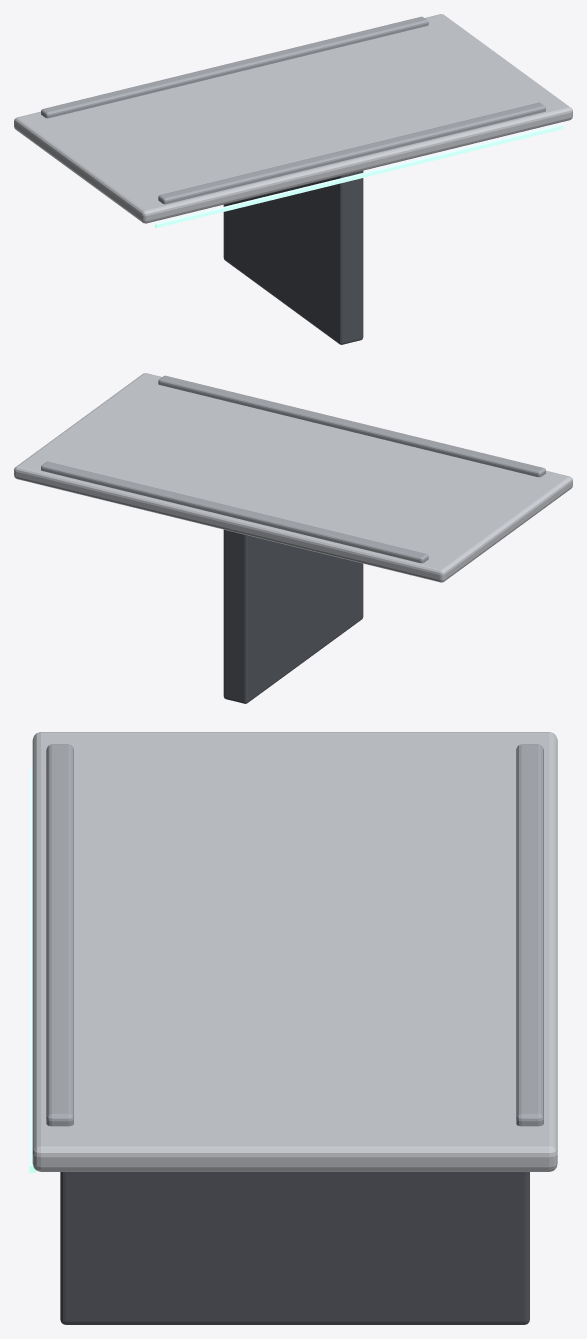
Rendered from dining_table_mess_hall.glb.
3 renders of one model, top to bottom at view 1: azimuth 30°, elevation 25°; view 2: azimuth 150°, elevation 25°; view 3: azimuth 270°, elevation 25°, orthographic. The views are drawn at different scales.
Visible parts, largest first — view 1: GD_dining_table_mess_hall__m0, GD_dining_table_mess_hall__m1, GD_dining_table_mess_hall__m2, GD_dining_table_mess_hall__m3; view 2: GD_dining_table_mess_hall__m0, GD_dining_table_mess_hall__m1, GD_dining_table_mess_hall__m2; view 3: GD_dining_table_mess_hall__m0, GD_dining_table_mess_hall__m1, GD_dining_table_mess_hall__m2, GD_dining_table_mess_hall__m3.
Boxes of the visible parts, x1,y1,x2,y2 form: GD_dining_table_mess_hall__m0: [14, 14, 572, 223]; GD_dining_table_mess_hall__m1: [223, 170, 363, 344]; GD_dining_table_mess_hall__m2: [41, 16, 545, 204]; GD_dining_table_mess_hall__m3: [155, 124, 563, 228]; GD_dining_table_mess_hall__m0: [14, 373, 572, 582]; GD_dining_table_mess_hall__m1: [223, 529, 363, 703]; GD_dining_table_mess_hall__m2: [41, 375, 545, 563]; GD_dining_table_mess_hall__m0: [32, 732, 557, 1171]; GD_dining_table_mess_hall__m1: [60, 1172, 529, 1324]; GD_dining_table_mess_hall__m2: [46, 744, 543, 1126]; GD_dining_table_mess_hall__m3: [29, 769, 35, 1172].
Bounding box in the file's own units: 1.8 × 0.77 × 0.956.
